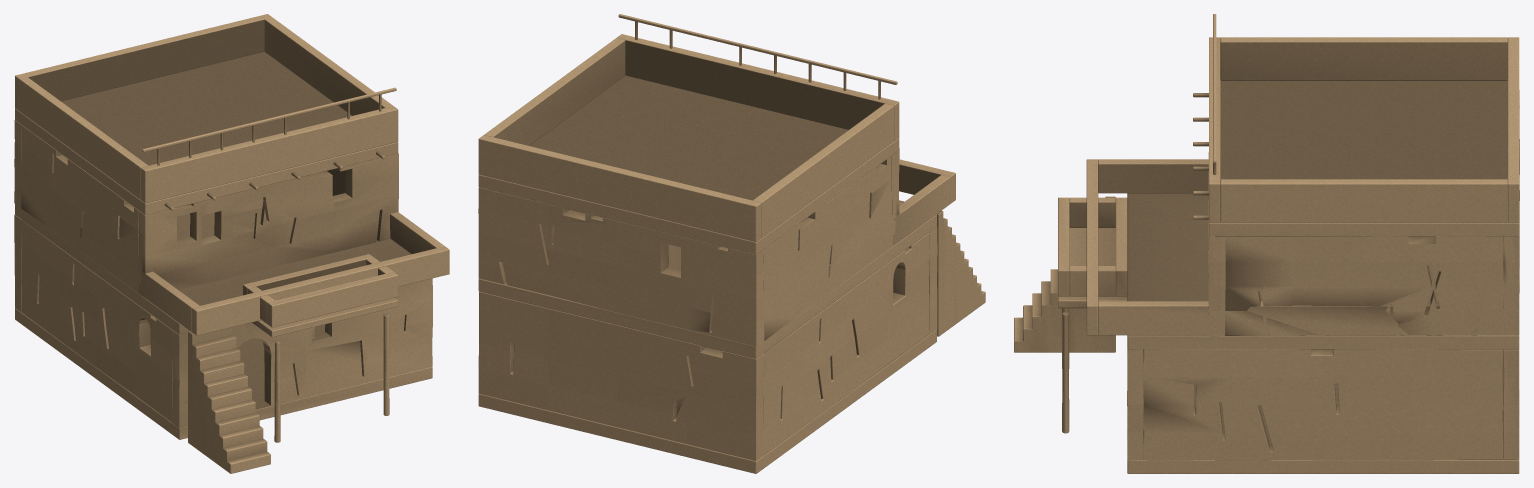
File: house_14.glb
3 renders of one model, left to right at view 1: azimuth 30°, elevation 25°; view 2: azimuth 150°, elevation 25°; view 3: azimuth 270°, elevation 25°, orthographic. The views are drawn at different scales.
Visible parts, largest first — view 1: house; view 2: house; view 3: house.
Part boxes in pixels (x1,y1,x2,y2): house: (14, 14, 449, 473); house: (478, 14, 985, 473); house: (1014, 14, 1519, 473).
Bounding box in the file's own units: 9.05 × 8.97 × 13.11.
1 material, 1 textured.
